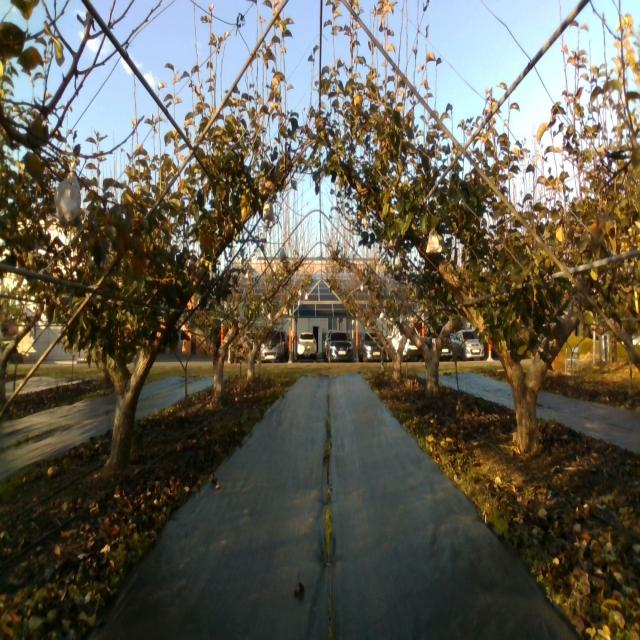pearbags: (55, 163, 81, 227), (427, 229, 442, 255), (263, 202, 275, 220)
